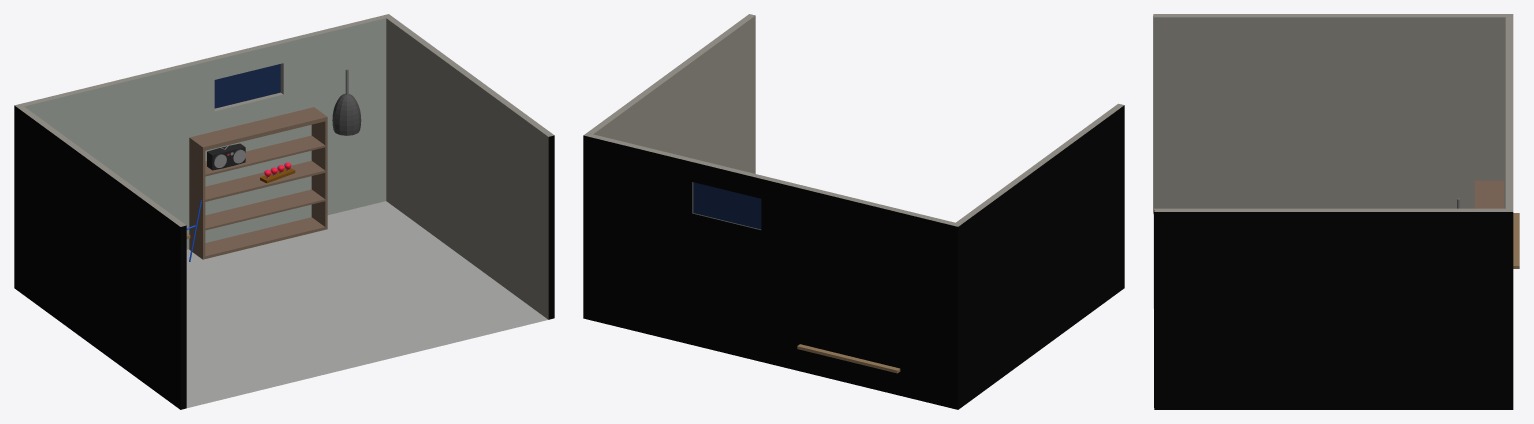
The model's file is Garage.fbx.
3 renders of one model, left to right at view 1: azimuth 30°, elevation 25°; view 2: azimuth 150°, elevation 25°; view 3: azimuth 270°, elevation 25°, orthographic. The views are drawn at different scales.
Parts seen in each view (by area): view 1: Garage; view 2: Garage; view 3: Garage.
Boxes of the visible parts, <box> form: Garage: <box>14,14,554,409</box>; Garage: <box>583,14,1124,409</box>; Garage: <box>1153,14,1519,409</box>.
Bounding box in the file's own units: 15 × 7.01 × 11.73.
